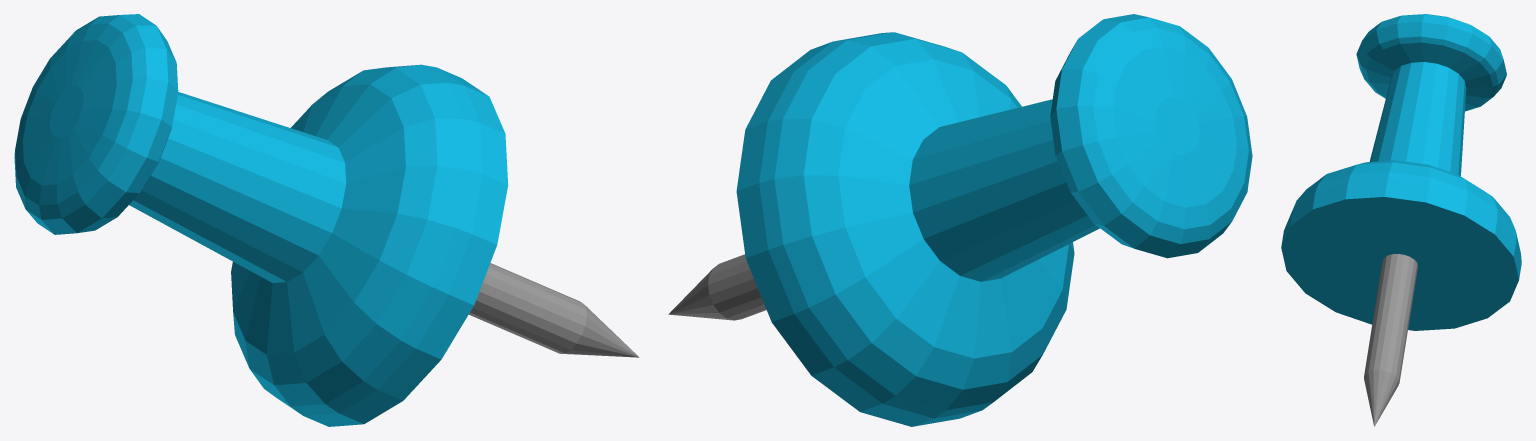
File: Pin.obj
3 views of the same model, side by side, from view 1: azimuth 30°, elevation 25°; view 2: azimuth 150°, elevation 25°; view 3: azimuth 270°, elevation 25° (orthographic). The views are drawn at different scales.
Visible parts, largest first — view 1: Cylinder001; view 2: Cylinder001; view 3: Cylinder001.
Part boxes in pixels (box(x1,y1,x2,y2)): Cylinder001: box(14, 14, 639, 426); Cylinder001: box(668, 14, 1252, 426); Cylinder001: box(1281, 14, 1521, 426).
Bounding box in the file's own units: 102003 × 71925 × 58648.
